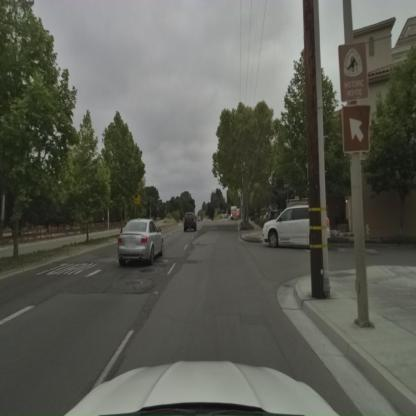car: (263, 203, 329, 250), (116, 218, 166, 267), (184, 213, 198, 232)
